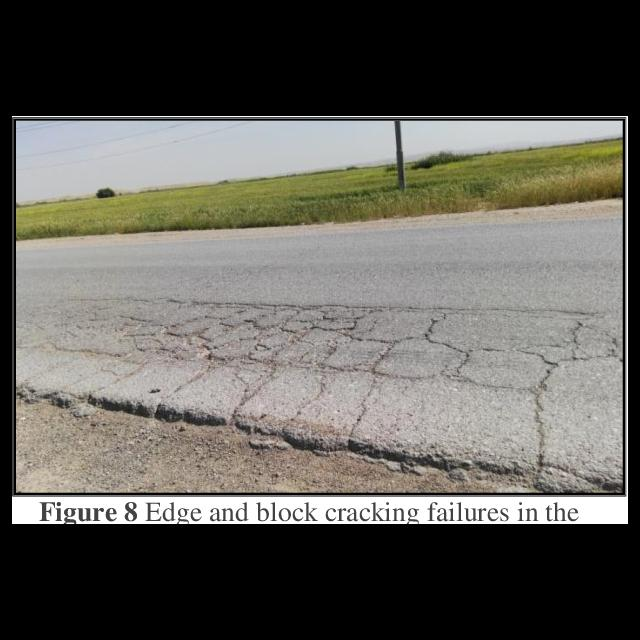retak_kulit_buaya: (333, 297, 628, 464), (12, 284, 371, 383)
